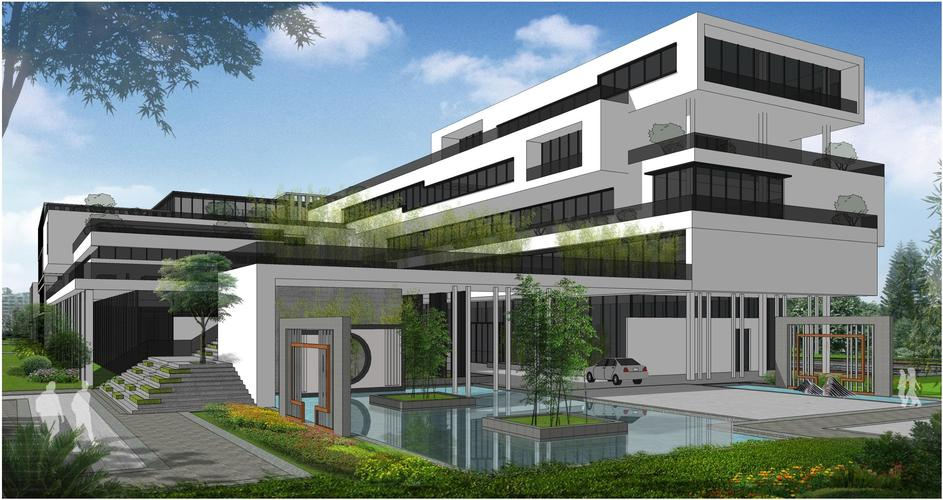buildings: (15, 58, 893, 276)
